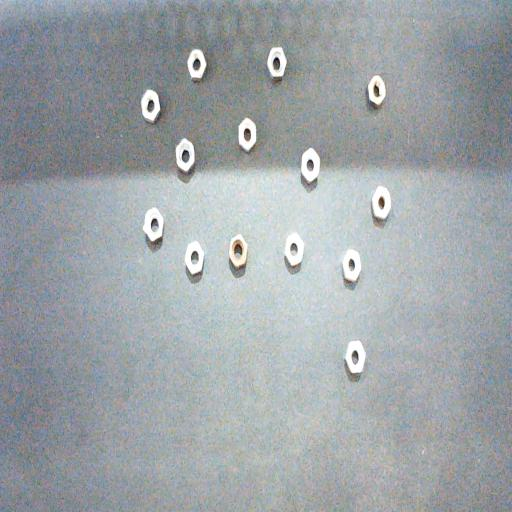nut: (143, 207, 164, 245), (344, 340, 366, 376), (301, 147, 321, 184), (228, 233, 248, 270), (284, 231, 304, 268), (371, 186, 391, 222), (342, 248, 362, 284), (176, 138, 195, 175), (185, 240, 204, 276), (141, 89, 161, 123), (187, 48, 207, 82), (266, 47, 286, 81), (366, 75, 386, 108), (238, 117, 256, 152)
